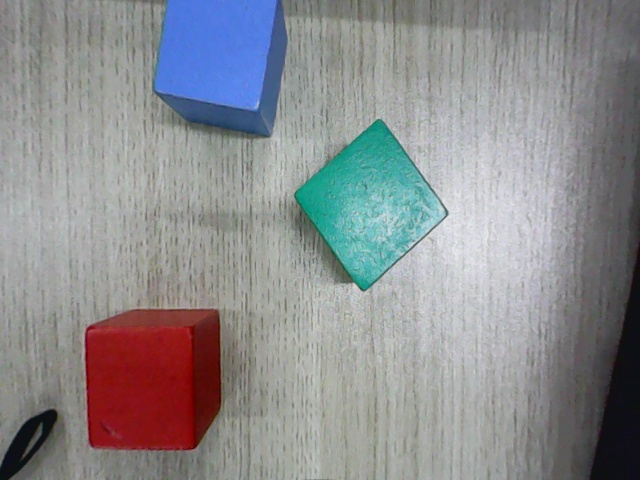upside of big cube: (293, 119, 449, 294), (152, 0, 279, 112), (87, 327, 194, 450)
